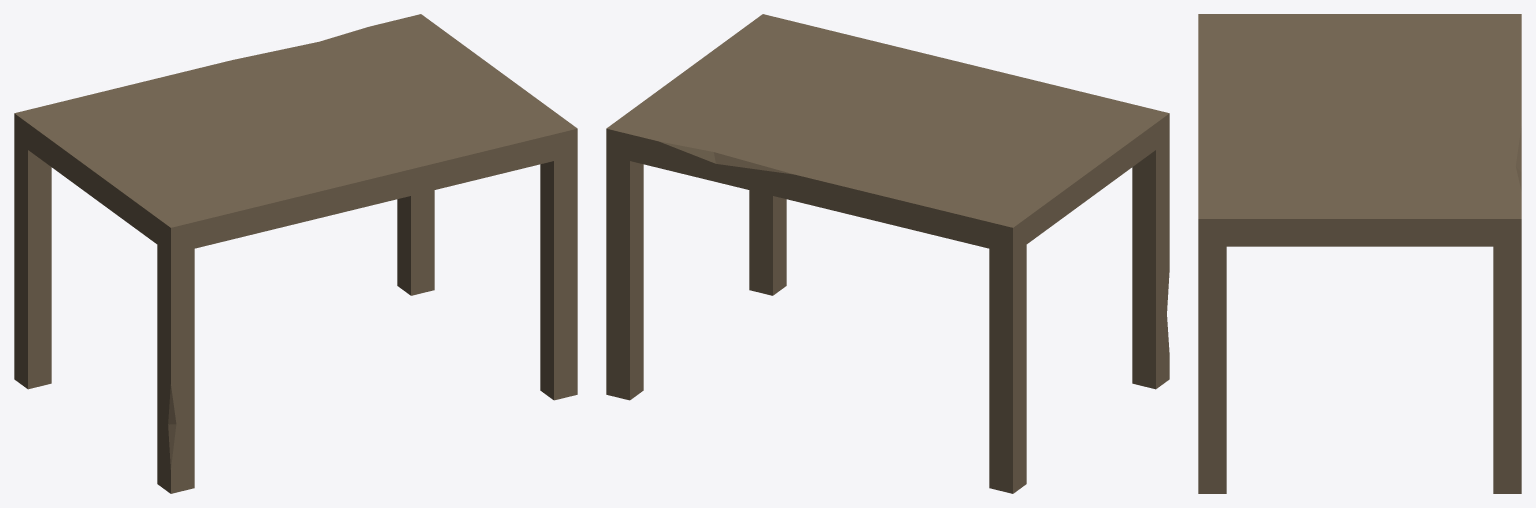
File: SM_Props_Interior_House_Generic_Table_Dining_01.fbx
3 renders of one model, left to right at view 1: azimuth 30°, elevation 25°; view 2: azimuth 150°, elevation 25°; view 3: azimuth 270°, elevation 25°, orthographic. The views are drawn at different scales.
Visible parts, largest first — view 1: SM_Props_Interior_House_Generic_Table_Dining_01; view 2: SM_Props_Interior_House_Generic_Table_Dining_01; view 3: SM_Props_Interior_House_Generic_Table_Dining_01.
Part boxes in pixels (left/top/right/bottom): SM_Props_Interior_House_Generic_Table_Dining_01: left=14, top=14, right=577, bottom=493; SM_Props_Interior_House_Generic_Table_Dining_01: left=606, top=14, right=1169, bottom=493; SM_Props_Interior_House_Generic_Table_Dining_01: left=1198, top=14, right=1521, bottom=493.
Size of the model in its own units: 120 by 75 by 80.
